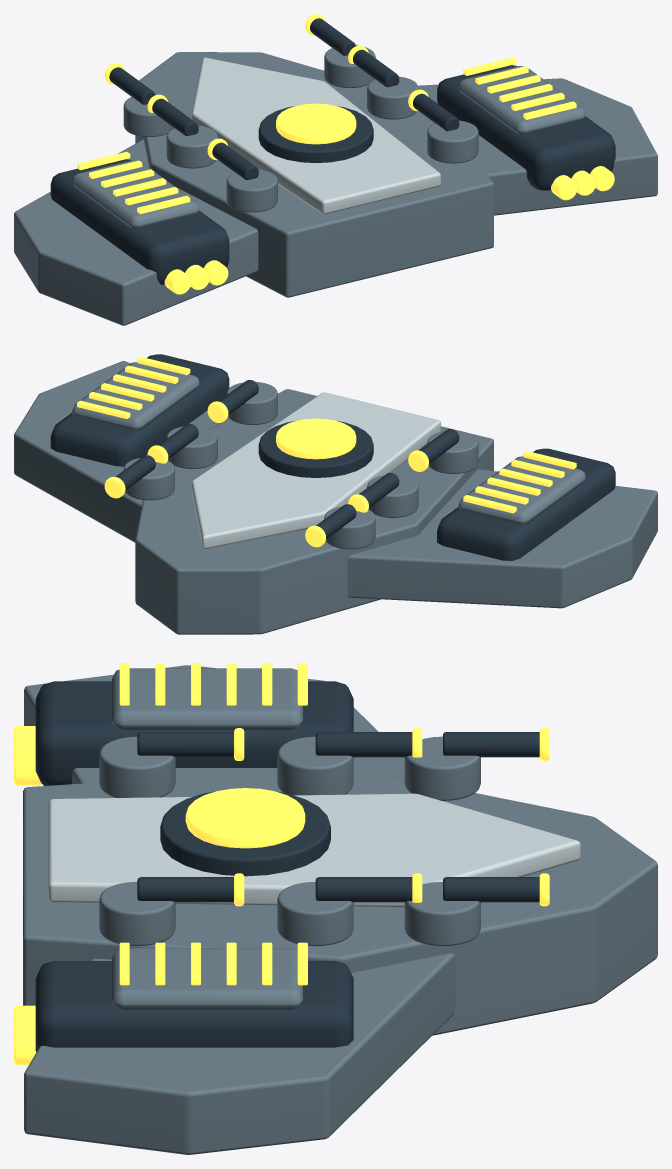
The model's file is Leviathan.fbx.
3 views of the same model, one above another, from view 1: azimuth 30°, elevation 25°; view 2: azimuth 150°, elevation 25°; view 3: azimuth 270°, elevation 25° (orthographic). The views are drawn at different scales.
Parts seen in each view (by area): view 1: Command hull, Dorsal armor, Armored carrier wing, Armored carrier wing.001, Side reactor.001, Side reactor, Armor panel.001, Armor panel, Reactor housing, Exposed core, Rotary turret.003, Rotary turret (+12 smaller); view 2: Command hull, Armored carrier wing, Dorsal armor, Armored carrier wing.001, Side reactor, Side reactor.001, Armor panel, Armor panel.001, Reactor housing, Exposed core, Rotary turret, Rotary turret.001 (+22 smaller); view 3: Command hull, Armored carrier wing.001, Dorsal armor, Side reactor.001, Side reactor, Armor panel.001, Armor panel, Reactor housing, Exposed core, Rotary turret.003, Rotary turret.004, Rotary turret (+11 smaller).
Boxes of the visible parts, x1,y1,x2,y2 form: Command hull: [135, 52, 493, 297]; Dorsal armor: [191, 57, 440, 214]; Armored carrier wing: [14, 139, 258, 325]; Armored carrier wing.001: [418, 78, 657, 215]; Side reactor.001: [437, 65, 615, 190]; Side reactor: [50, 159, 229, 284]; Armor panel.001: [458, 66, 585, 134]; Armor panel: [72, 160, 199, 228]; Reactor housing: [258, 106, 373, 162]; Exposed core: [276, 103, 356, 144]; Rotary turret.003: [427, 120, 478, 163]; Rotary turret: [226, 169, 277, 212]; Command hull: [135, 389, 493, 634]; Armored carrier wing: [347, 469, 657, 608]; Dorsal armor: [191, 392, 440, 549]; Armored carrier wing.001: [14, 361, 229, 542]; Side reactor: [437, 448, 615, 560]; Side reactor.001: [50, 354, 229, 466]; Armor panel: [458, 456, 585, 524]; Armor panel.001: [72, 362, 199, 430]; Reactor housing: [258, 421, 373, 477]; Exposed core: [276, 418, 356, 459]; Rotary turret: [427, 431, 478, 473]; Rotary turret.001: [367, 474, 418, 517]; Command hull: [23, 768, 657, 1035]; Armored carrier wing.001: [24, 953, 455, 1154]; Dorsal armor: [48, 793, 580, 907]; Side reactor.001: [35, 961, 353, 1051]; Side reactor: [35, 681, 353, 785]; Armor panel.001: [112, 948, 302, 1009]; Armor panel: [112, 668, 302, 729]; Reactor housing: [160, 791, 330, 876]; Exposed core: [185, 788, 305, 848]; Rotary turret.003: [99, 882, 175, 946]; Rotary turret.004: [277, 882, 353, 946]; Rotary turret: [99, 736, 175, 797].
Size of the model in its own units: 799 by 136 by 506.
